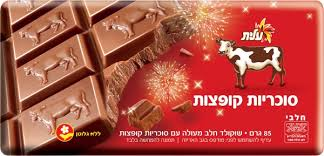Chocolate: (1, 2, 324, 154)
